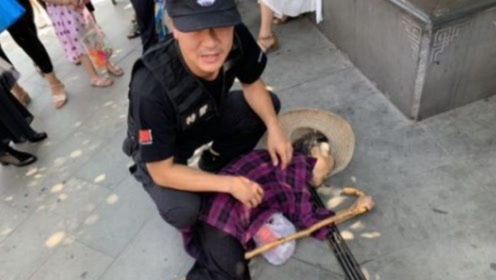falling: (200, 115, 350, 278)
